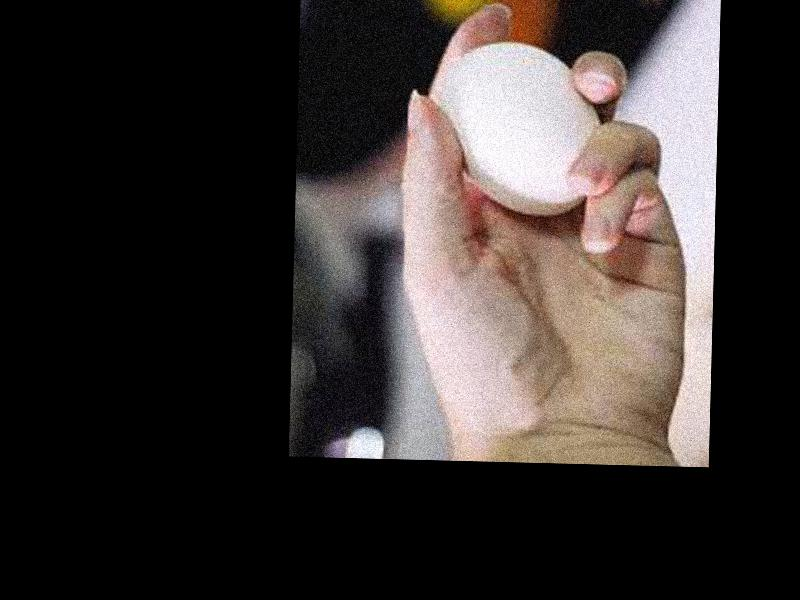Eggs: (437, 38, 600, 215)
